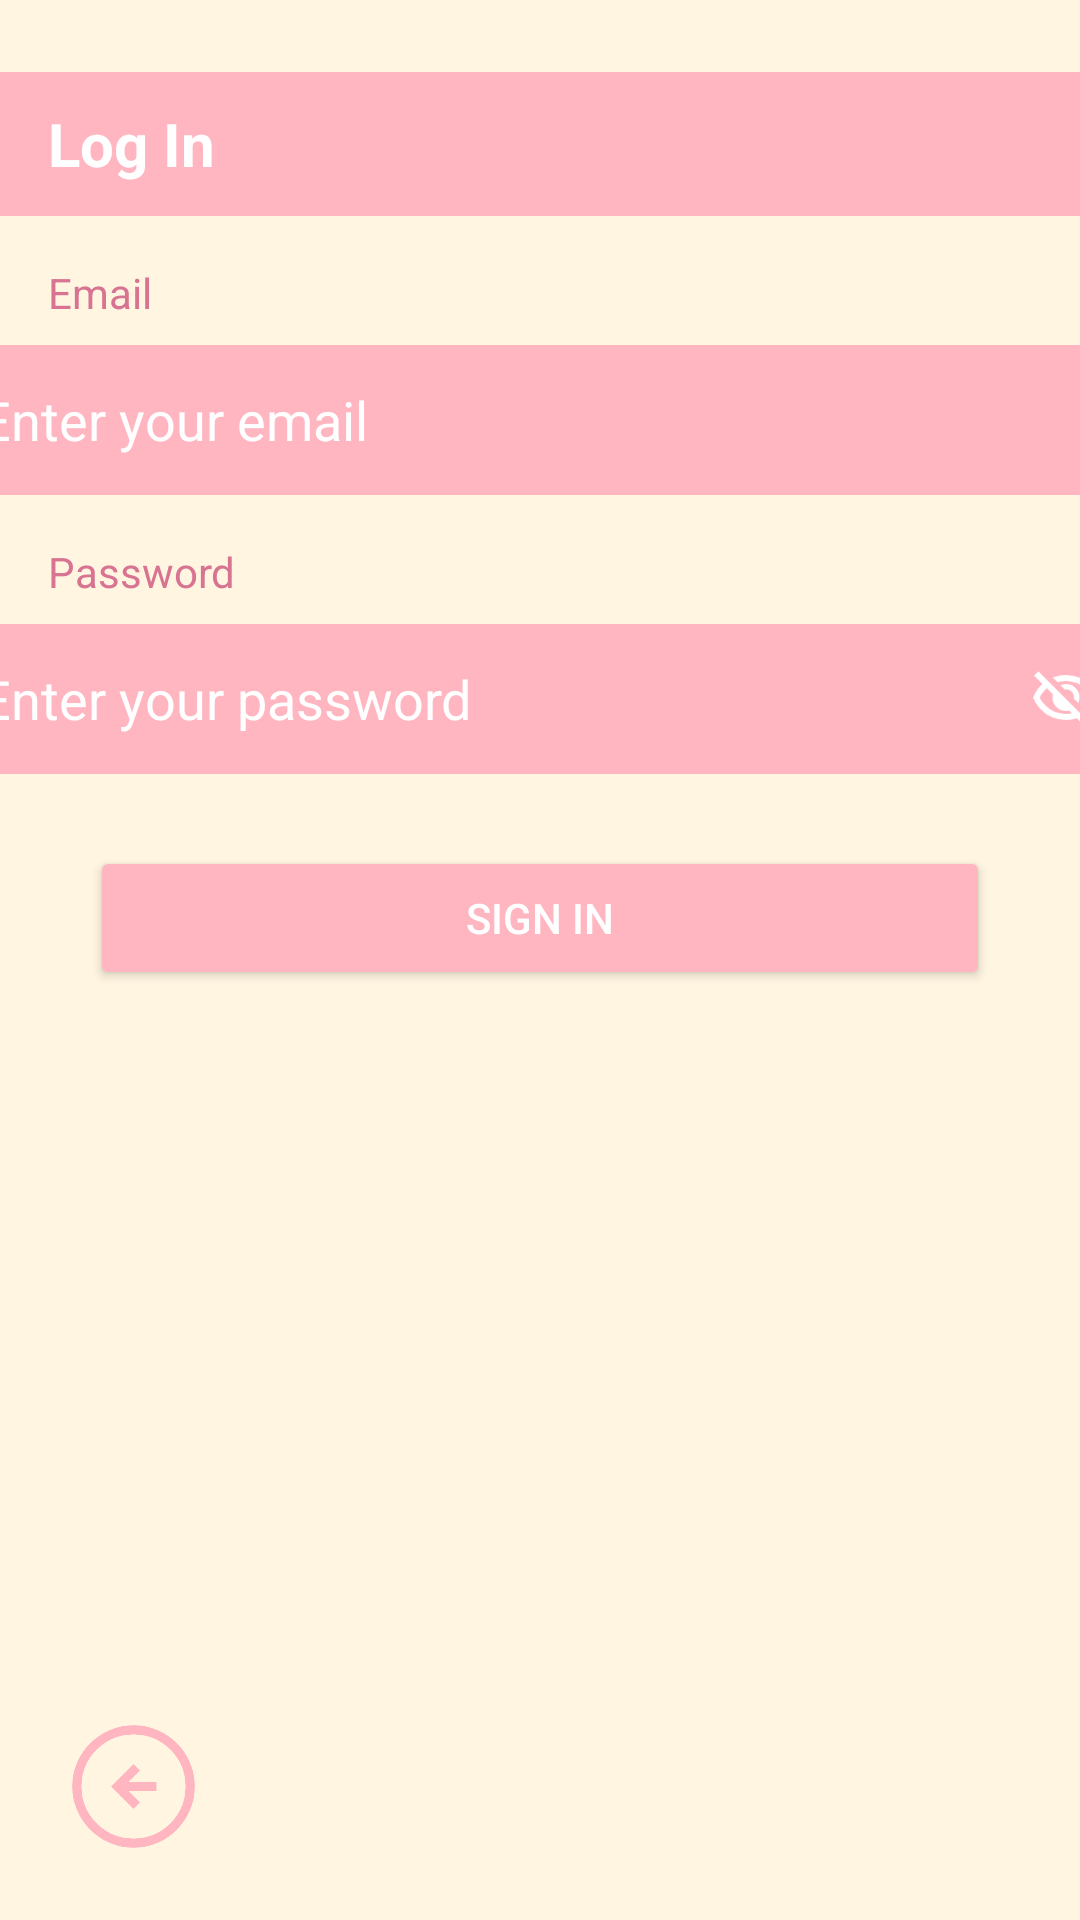

Icon bounding boxes for this 1080 x 1920 phone screenshot, format (x1, y1, x2, y2):
Back: (72, 1725, 195, 1848)
